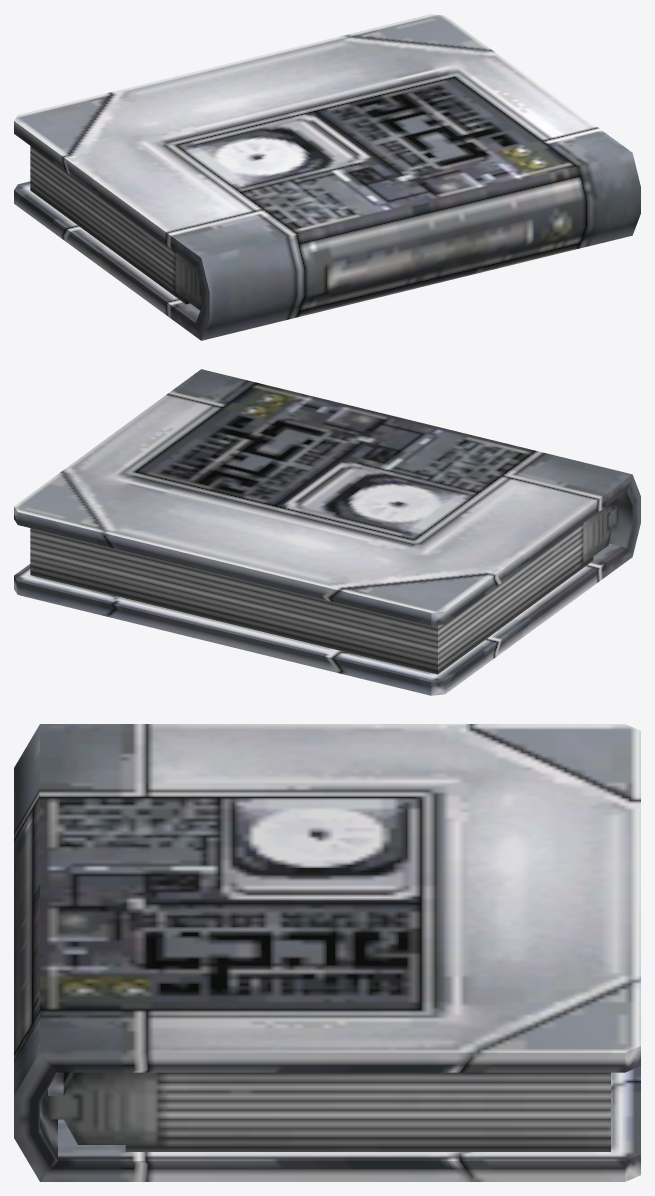
File: eqp_notebook_s01_l1.fbx
3 views of the same model, one above another, from view 1: azimuth 30°, elevation 25°; view 2: azimuth 150°, elevation 25°; view 3: azimuth 270°, elevation 25° (orthographic). The views are drawn at different scales.
Visible parts, largest first — view 1: mesh_node; view 2: mesh_node; view 3: mesh_node.
Part boxes in pixels (x1,y1,x2,y2): mesh_node: [14, 14, 640, 340]; mesh_node: [14, 369, 640, 695]; mesh_node: [14, 724, 640, 1181].
Bounding box in the file's own units: 0.2 × 0.0367 × 0.1612.
Materials: 1 (1 with a texture image).
